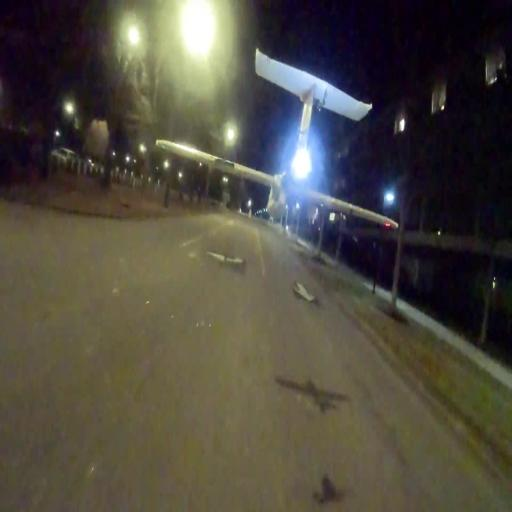uav: (152, 42, 402, 237)
